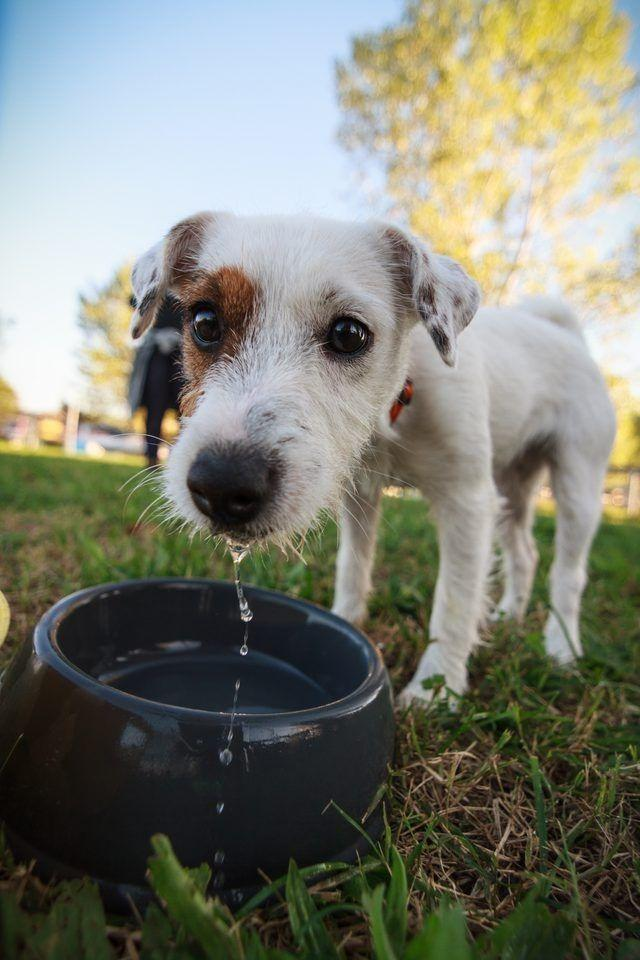adult_dog: (128, 209, 620, 717)
